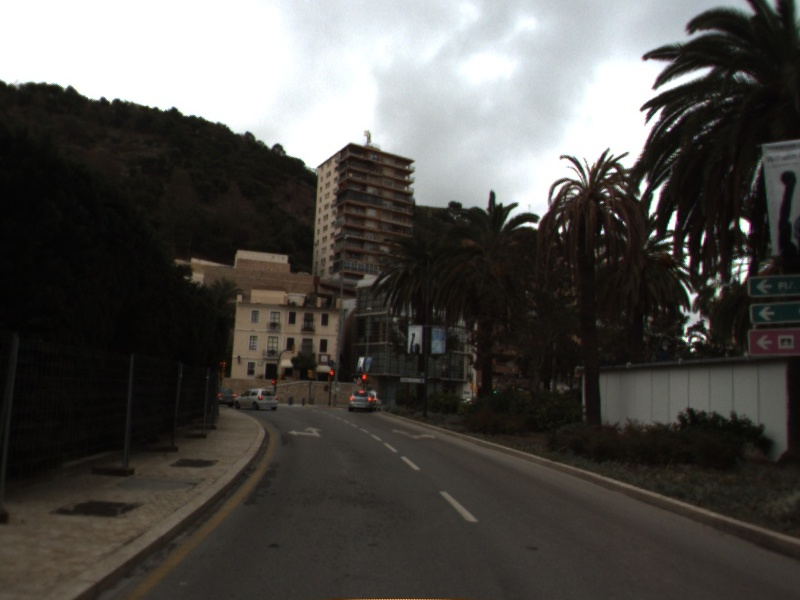STRAIGHT_LEFT: (286, 424, 326, 439)
STRAIGHT_RIGHT: (390, 426, 438, 442)
